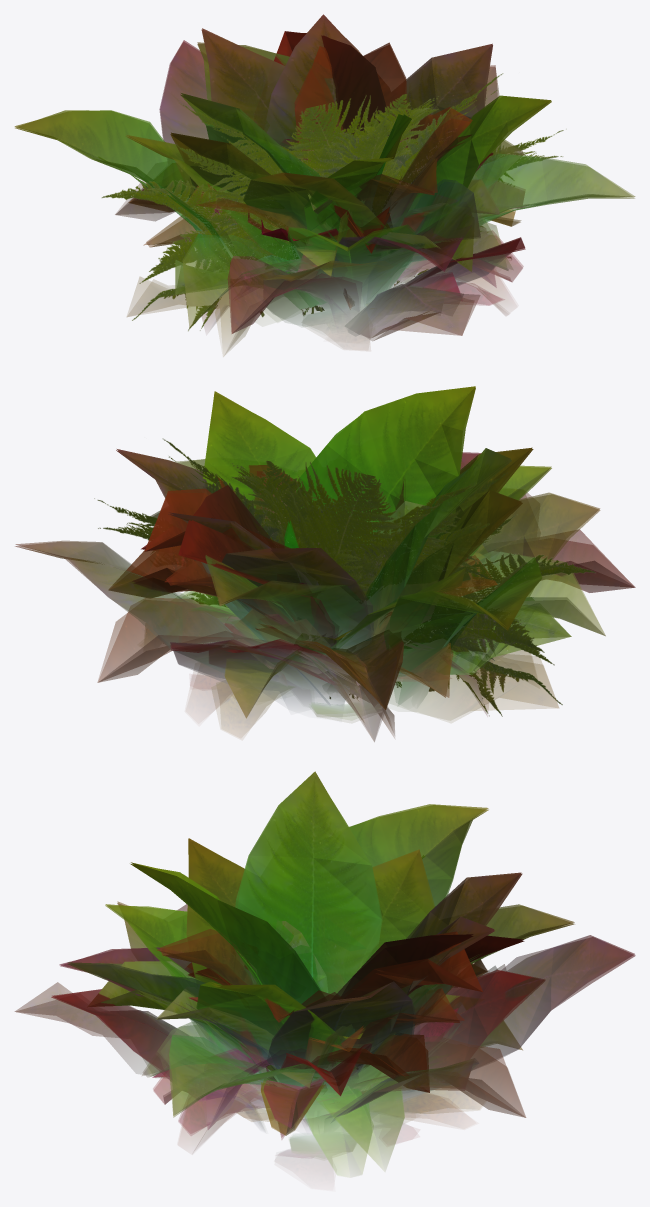
File: fern.glb
3 renders of one model, top to bottom at view 1: azimuth 30°, elevation 25°; view 2: azimuth 150°, elevation 25°; view 3: azimuth 270°, elevation 25°, orthographic. The views are drawn at different scales.
Visible parts, largest first — view 1: SM_wdvlditia_VarA; view 2: SM_wdvlditia_VarA; view 3: SM_wdvlditia_VarA.
Part boxes in pixels (x1,y1,x2,y2): SM_wdvlditia_VarA: (14, 14, 635, 356); SM_wdvlditia_VarA: (15, 386, 635, 741); SM_wdvlditia_VarA: (14, 771, 635, 1174).
Bounding box in the file's own units: 1.9 × 1.05 × 2.12.
2 materials, 2 textured.
